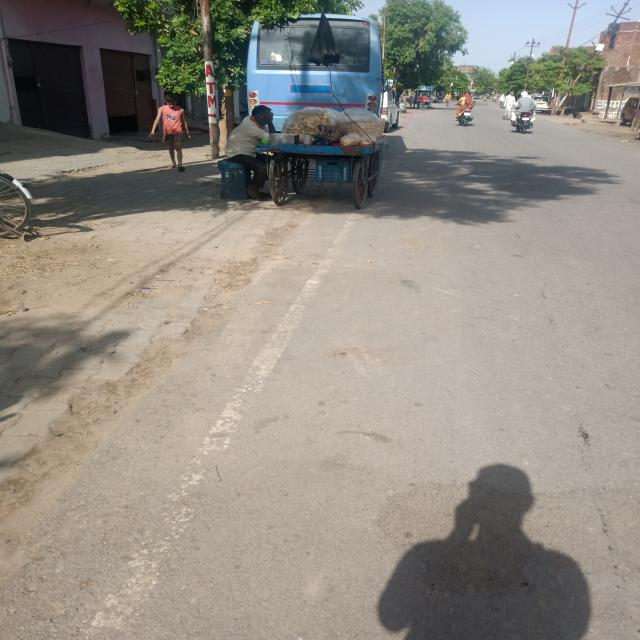Bus: (234, 15, 384, 107)
